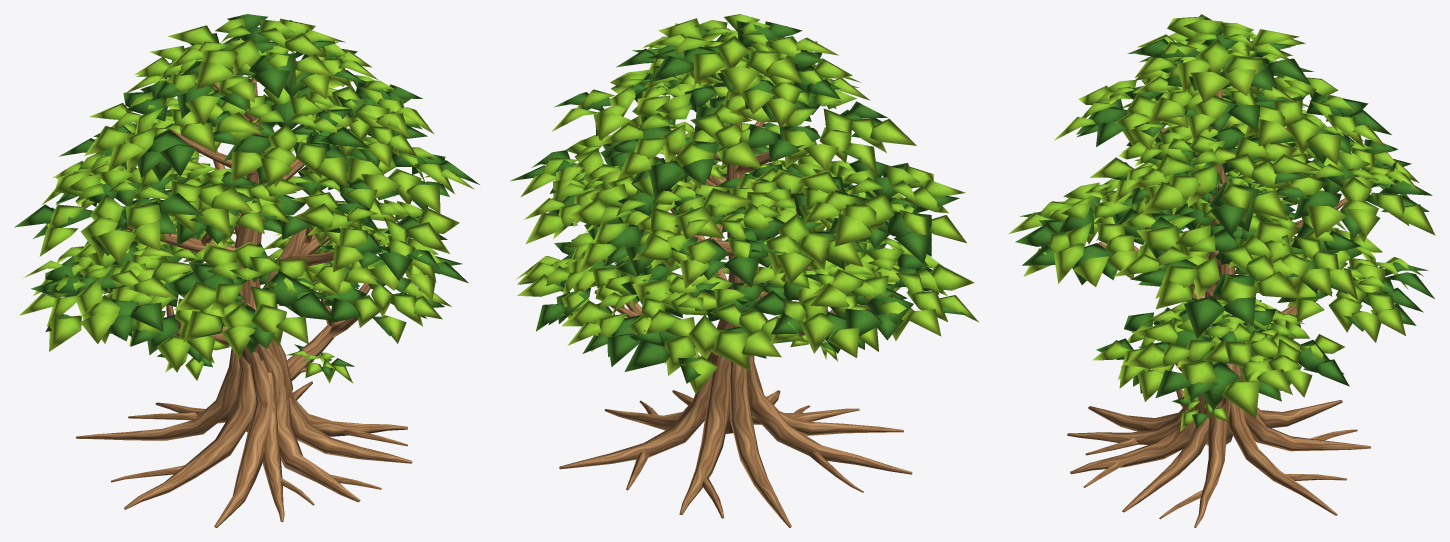
The model's file is WT_MatureTree_LOD1.fbx.
3 renders of one model, left to right at view 1: azimuth 30°, elevation 25°; view 2: azimuth 150°, elevation 25°; view 3: azimuth 270°, elevation 25°, orthographic.
Parts seen in each view (by area): view 1: WT_MatureTree_Foliage_LOD1, WT_MatureTree_TrunkAndRoots_LOD1, WT_MatureTree_Branches_LOD1; view 2: WT_MatureTree_Foliage_LOD1, WT_MatureTree_TrunkAndRoots_LOD1, WT_MatureTree_Branches_LOD1; view 3: WT_MatureTree_Foliage_LOD1, WT_MatureTree_TrunkAndRoots_LOD1, WT_MatureTree_Branches_LOD1.
Part boxes in pixels (box(x1,y1,x2,y2)): WT_MatureTree_Foliage_LOD1: box(14, 14, 479, 383); WT_MatureTree_TrunkAndRoots_LOD1: box(76, 80, 412, 527); WT_MatureTree_Branches_LOD1: box(125, 78, 387, 381); WT_MatureTree_Foliage_LOD1: box(510, 14, 978, 393); WT_MatureTree_TrunkAndRoots_LOD1: box(559, 122, 912, 527); WT_MatureTree_Branches_LOD1: box(594, 83, 871, 357); WT_MatureTree_Foliage_LOD1: box(1009, 14, 1435, 431); WT_MatureTree_TrunkAndRoots_LOD1: box(1067, 90, 1370, 527); WT_MatureTree_Branches_LOD1: box(1098, 74, 1346, 408).
Bounding box in the file's own units: 10.06 × 9.21 × 8.48.
